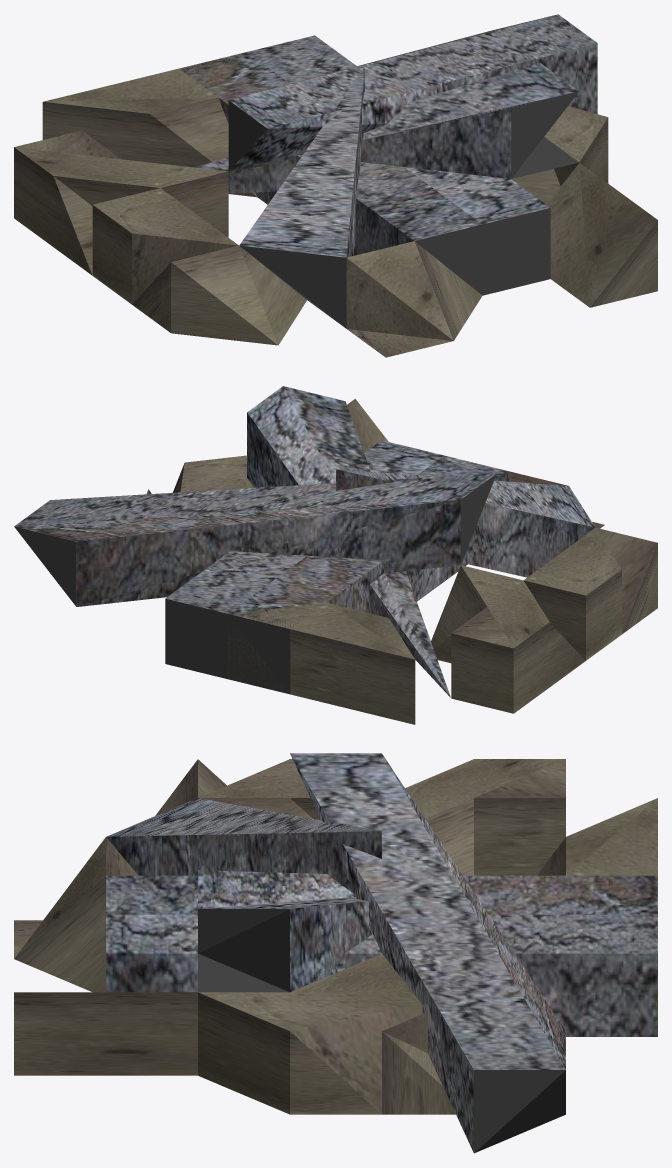
The model's file is na-firewood3.dae.
3 renders of one model, top to bottom at view 1: azimuth 30°, elevation 25°; view 2: azimuth 150°, elevation 25°; view 3: azimuth 270°, elevation 25°, orthographic. The views are drawn at different scales.
Visible parts, largest first — view 1: S_cylinder_9_17, S_cylinder_5_14_1, S_cylinder_0_11_1, S_cylinder_6_13_1, S_cylinder_8_16, S_cylinder_7_15, S_cylinder_11_19, S_cylinder_10_18, S_cylinder_4_12_1, S_cylinder_0_11, S_cylinder_12_20, S_cylinder_4_12 (+2 smaller); view 2: S_cylinder_5_14_1, S_cylinder_0_11_1, S_cylinder_8_16, S_cylinder_7_15, S_cylinder_6_13_1, S_cylinder_9_17, S_cylinder_4_12_1, S_cylinder_0_11, S_cylinder_5_14, S_cylinder_12_20, S_cylinder_11_19; view 3: S_cylinder_5_14_1, S_cylinder_0_11_1, S_cylinder_12_20, S_cylinder_11_19, S_cylinder_4_12_1, S_cylinder_8_16, S_cylinder_6_13_1, S_cylinder_10_18, S_cylinder_6_13, S_cylinder_7_15, S_cylinder_5_14, S_cylinder_9_17.
Part boxes in pixels (<box>): S_cylinder_9_17: <box>92,188,306,345</box>; S_cylinder_5_14_1: <box>229,14,597,171</box>; S_cylinder_0_11_1: <box>179,35,550,255</box>; S_cylinder_6_13_1: <box>195,62,578,193</box>; S_cylinder_8_16: <box>14,130,228,275</box>; S_cylinder_7_15: <box>42,52,256,197</box>; S_cylinder_11_19: <box>547,163,657,307</box>; S_cylinder_10_18: <box>346,241,482,357</box>; S_cylinder_4_12_1: <box>239,67,364,257</box>; S_cylinder_0_11: <box>415,208,550,295</box>; S_cylinder_12_20: <box>511,105,608,204</box>; S_cylinder_4_12: <box>240,245,346,328</box>; S_cylinder_5_14_1: <box>14,473,496,606</box>; S_cylinder_0_11_1: <box>166,440,506,628</box>; S_cylinder_8_16: <box>431,565,585,713</box>; S_cylinder_7_15: <box>227,602,415,724</box>; S_cylinder_6_13_1: <box>247,386,450,697</box>; S_cylinder_9_17: <box>523,527,657,660</box>; S_cylinder_4_12_1: <box>336,469,595,577</box>; S_cylinder_0_11: <box>165,598,290,694</box>; S_cylinder_5_14: <box>14,474,496,606</box>; S_cylinder_12_20: <box>146,455,255,494</box>; S_cylinder_11_19: <box>347,398,388,452</box>; S_cylinder_5_14_1: <box>290,753,565,1152</box>; S_cylinder_0_11_1: <box>106,875,657,1036</box>; S_cylinder_12_20: <box>198,953,455,1114</box>; S_cylinder_11_19: <box>14,992,197,1075</box>; S_cylinder_4_12_1: <box>106,798,381,894</box>; S_cylinder_8_16: <box>405,759,565,875</box>; S_cylinder_6_13_1: <box>198,870,372,992</box>; S_cylinder_10_18: <box>14,837,138,992</box>; S_cylinder_6_13: <box>198,909,289,992</box>; S_cylinder_7_15: <box>537,798,657,912</box>; S_cylinder_5_14: <box>474,1070,565,1153</box>; S_cylinder_9_17: <box>155,759,320,819</box>.
Size of the model in its own units: 0.08 by 0.02 by 0.07.
Materials: 14 (10 with a texture image).
